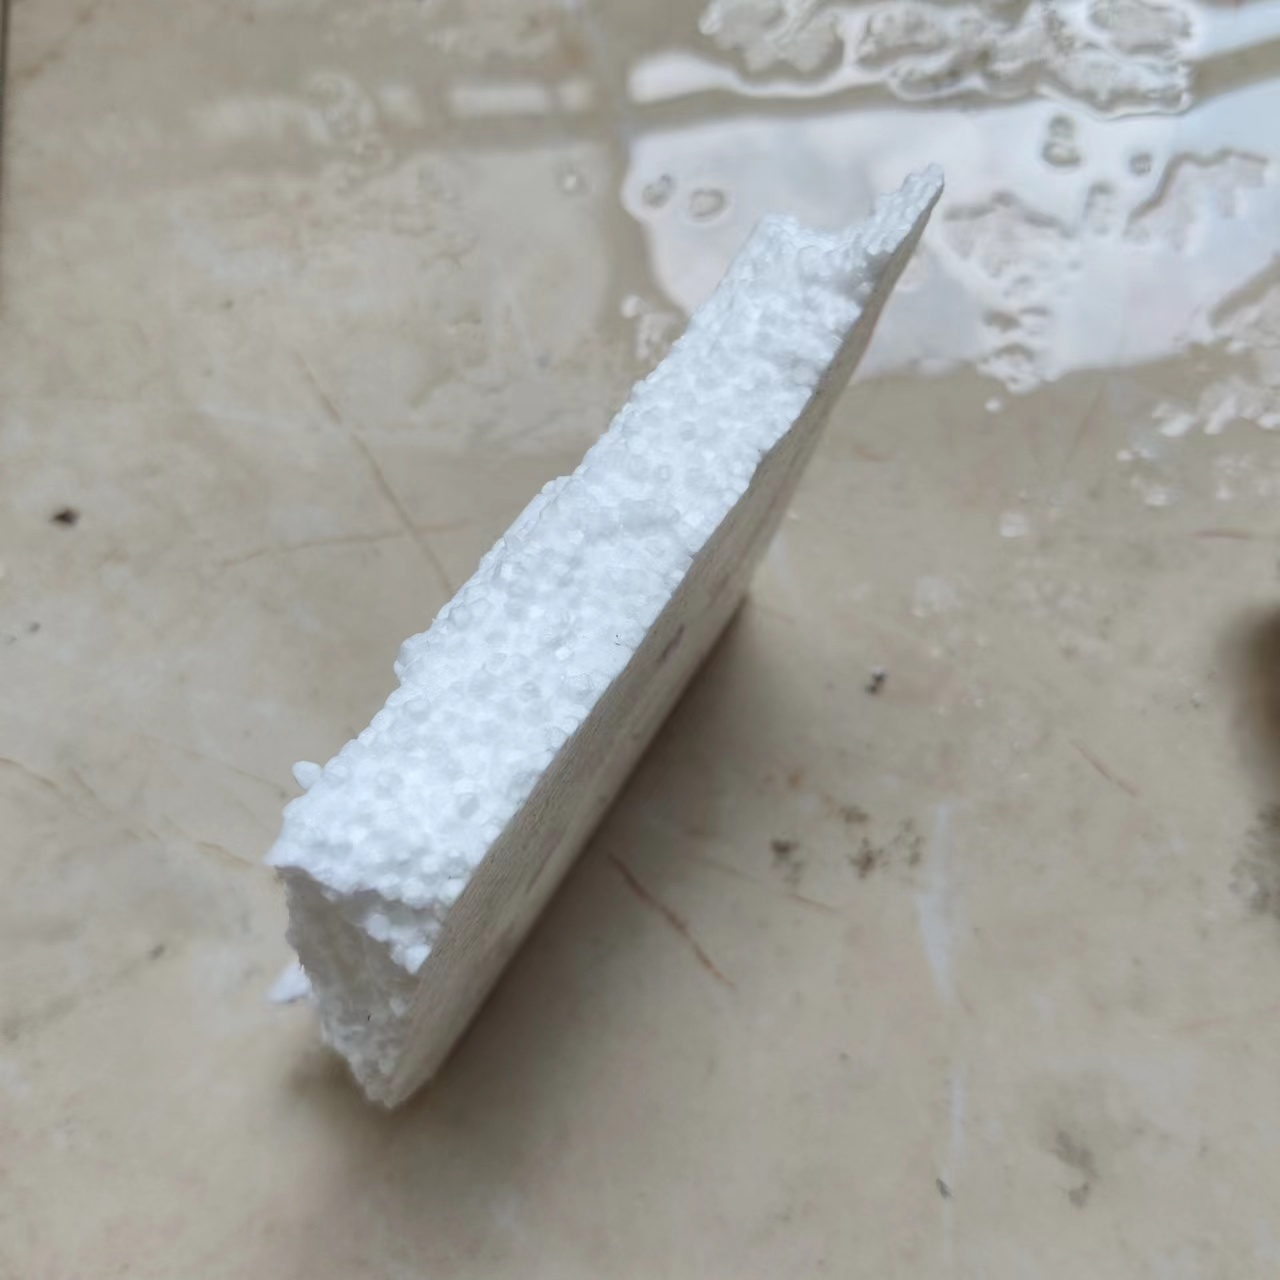5/可回收垃圾/泡沫: (263, 163, 946, 1115)
